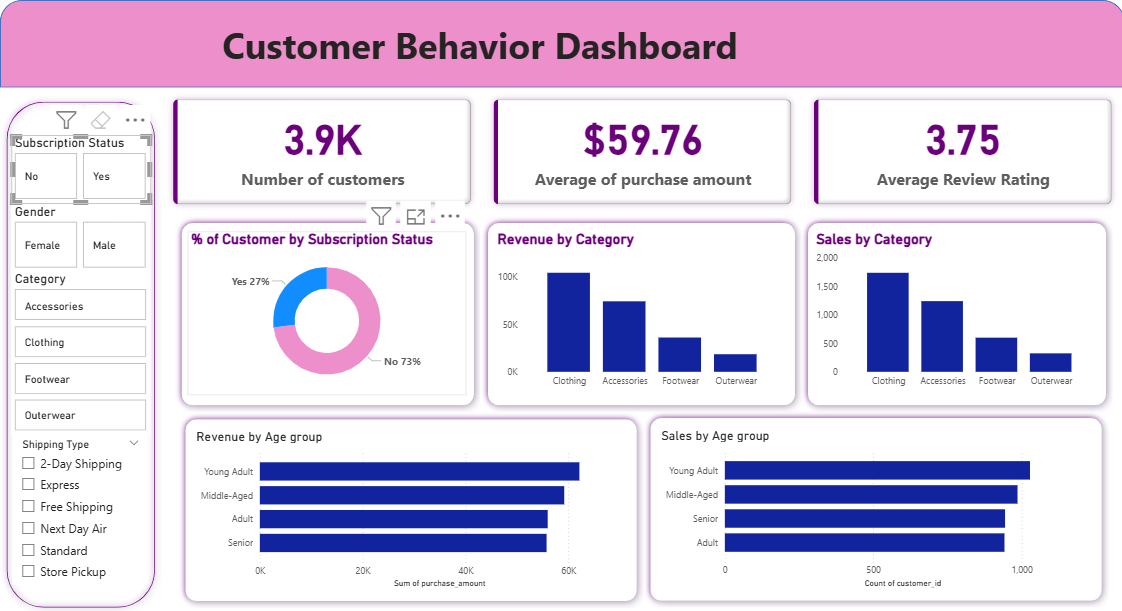

What the dashboard file says about the page in this screenshot:
{"tool":"powerbi","page":{"name":"Page 1","canvas":[1500,820],"ordinal":0},"visuals":[{"type":"cardVisual","fields":{"Data":["public customer.Number of customers","public customer.Average of purchase amount","public customer.Average Review Rating"]},"box":[215.6,116.7,1284,172.1],"z":0},{"type":"shape","box":[0,0,1499.6,116.7],"z":1000},{"type":"textbox","box":[0,22.2,1280.1,80.1],"z":2000},{"type":"shape","box":[233.5,288.8,407.6,261.1],"z":3000},{"type":"donutChart","title":"% of Customer by Subscription Status","fields":{"Category":["public customer.subscription_status"],"Y":["CountNonNull(public customer.customer_id)"]},"box":[249.3,308.6,371.9,217.6],"z":4000},{"type":"shape","box":[641,288.8,427.3,261.1],"z":5000},{"type":"shape","box":[1068.3,288.8,415.5,261.1],"z":6000},{"type":"clusteredColumnChart","title":"Revenue by Category","fields":{"Y":["Sum(public customer.purchase_amount)"],"Category":["public customer.category"]},"box":[658.8,308.6,387.8,217.6],"z":7000},{"type":"clusteredColumnChart","title":"Sales by Category","fields":{"Y":["CountNonNull(public customer.customer_id)"],"Category":["public customer.category"]},"box":[1084.2,308.6,381.8,217.6],"z":8000},{"type":"shape","box":[0,126.6,215.6,692.4],"z":9000},{"type":"advancedSlicerVisual","title":"Subscription Status","fields":{"Values":["public customer.subscription_status"]},"box":[15.8,180,186,91],"z":10000},{"type":"advancedSlicerVisual","title":"Gender","fields":{"Values":["public customer.gender"]},"box":[15.8,271,186,91],"z":11000},{"type":"advancedSlicerVisual","title":"Category","fields":{"Values":["public customer.category"]},"box":[15.8,362,186,219.6],"z":12000},{"type":"slicer","fields":{"Values":["public customer.shipping_type"]},"box":[16.7,578,181,201.9],"z":13000},{"type":"shape","box":[238.1,550.1,619.7,260.4],"z":15000},{"type":"shape","box":[857.9,548.7,619.7,261.8],"z":16000},{"type":"clusteredBarChart","title":"Sales by Age group","fields":{"Y":["CountNonNull(public customer.customer_id)"],"Category":["public customer.age_group"]},"box":[876,569.6,584.9,218.6],"z":17000},{"type":"clusteredBarChart","title":"Revenue by Age group","fields":{"Y":["Sum(public customer.purchase_amount)"],"Category":["public customer.age_group"]},"box":[256.3,572.4,584.9,217.3],"z":17001}]}

Visuals, with their boxes in screenshot pixels (x1, y1, x2, y2), scaled from the page's 1500x820 canvas onto the 1122x611 screenshot:
cardVisual - public customer.Number of customers x public customer.Average of purchase amount: 161/87/1121/215
shape: 0/0/1121/87
textbox: 0/17/958/76
shape: 175/215/480/410
"% of Customer by Subscription Status" donutChart: 186/230/465/392
shape: 479/215/799/410
shape: 799/215/1110/410
"Revenue by Category" clusteredColumnChart: 493/230/783/392
"Sales by Category" clusteredColumnChart: 811/230/1097/392
shape: 0/94/161/610
"Subscription Status" advancedSlicerVisual: 12/134/151/202
"Gender" advancedSlicerVisual: 12/202/151/270
"Category" advancedSlicerVisual: 12/270/151/433
slicer - public customer.shipping_type: 12/431/148/581
shape: 178/410/642/604
shape: 642/409/1105/604
"Sales by Age group" clusteredBarChart: 655/424/1093/587
"Revenue by Age group" clusteredBarChart: 192/427/629/588
